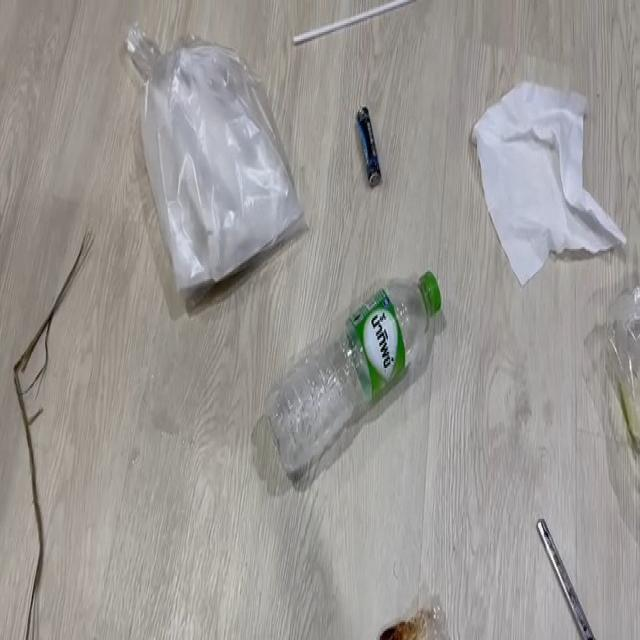Anorganik: (131, 33, 301, 290), (254, 258, 452, 458), (472, 51, 610, 274), (532, 483, 628, 640), (284, 0, 426, 47)
B3: (12, 161, 96, 638), (372, 576, 456, 640), (350, 86, 384, 191)
